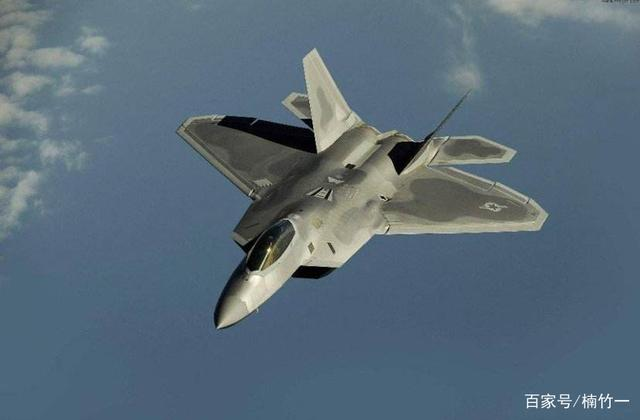airplane: (172, 46, 555, 334)
